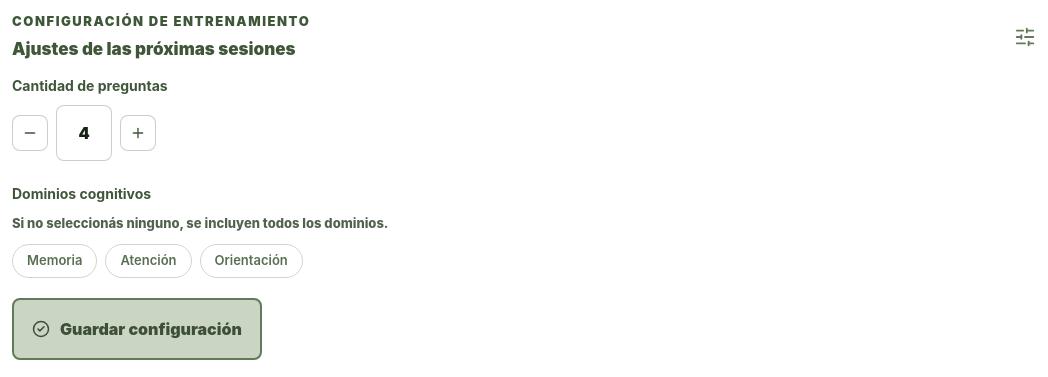
Scenario: TrainingConfigPanel › muestra error controlado si la API falla al guardar
Expected: the number field labelled "Cantidad de preguntas" is shown, [56,105,112,161]
Click the button named "aumentar cantidad". click: (138, 133)
box: [120,115,156,151]
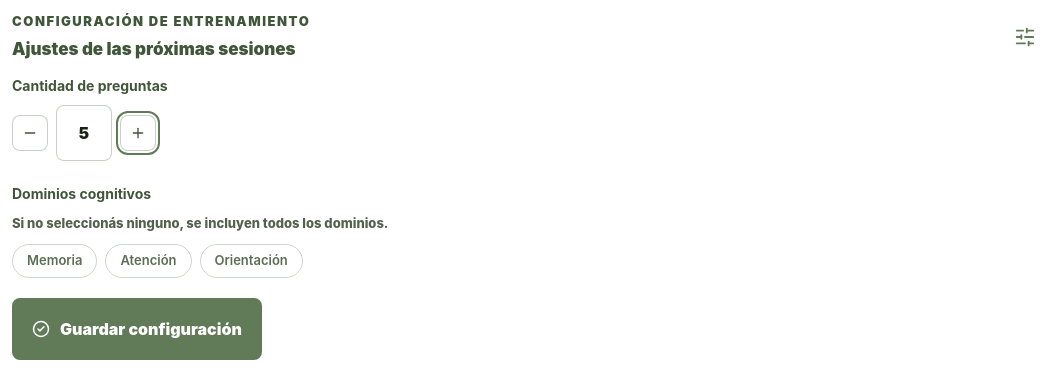
Click the button "Guardar configuración". click: (137, 329)
box: [12,298,262,360]
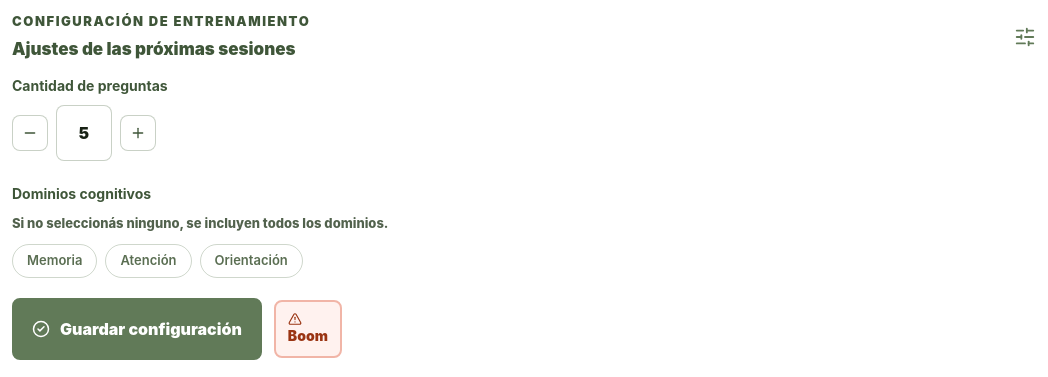
Expected: the text "Boom" is shown, [274,300,342,358]
